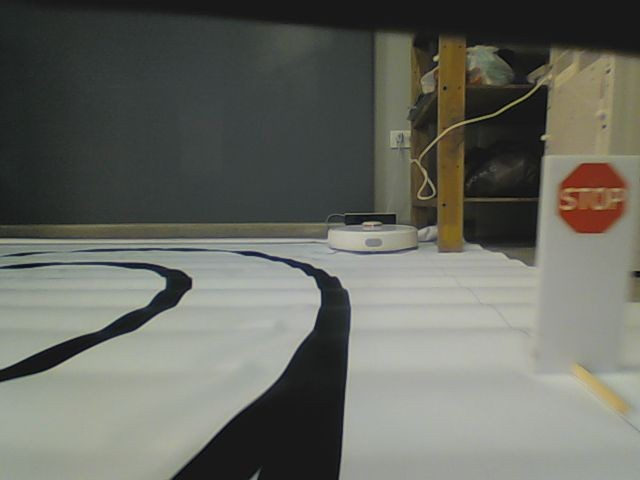Stop: (554, 159, 629, 234)
